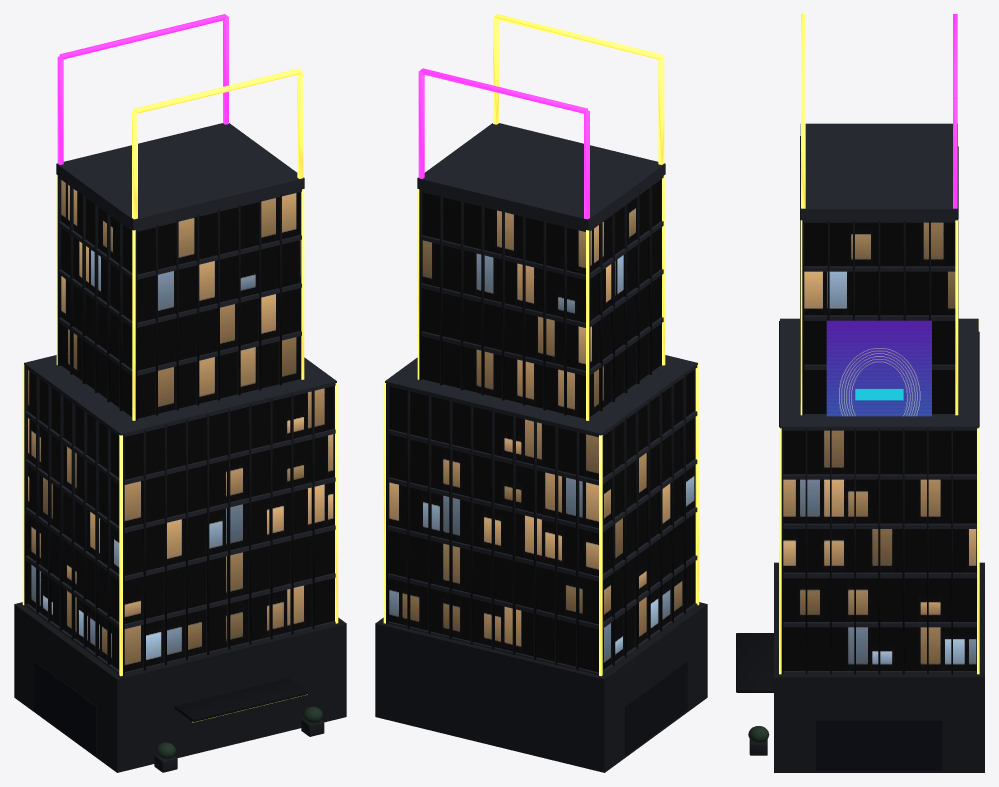
The model's file is neon-v-F.glb.
3 views of the same model, side by side, from view 1: azimuth 30°, elevation 25°; view 2: azimuth 150°, elevation 25°; view 3: azimuth 270°, elevation 25° (orthographic). The views are drawn at different scales.
Visible parts, largest first — view 1: Building; view 2: Building; view 3: Building.
Boxes of the visible parts, x1,y1,x2,y2 form: Building: [14, 14, 346, 772]; Building: [375, 14, 707, 772]; Building: [736, 14, 984, 772].
Size of the model in its own units: 18.1 by 48.35 by 16.5.
Materials: 9 (2 with a texture image).
